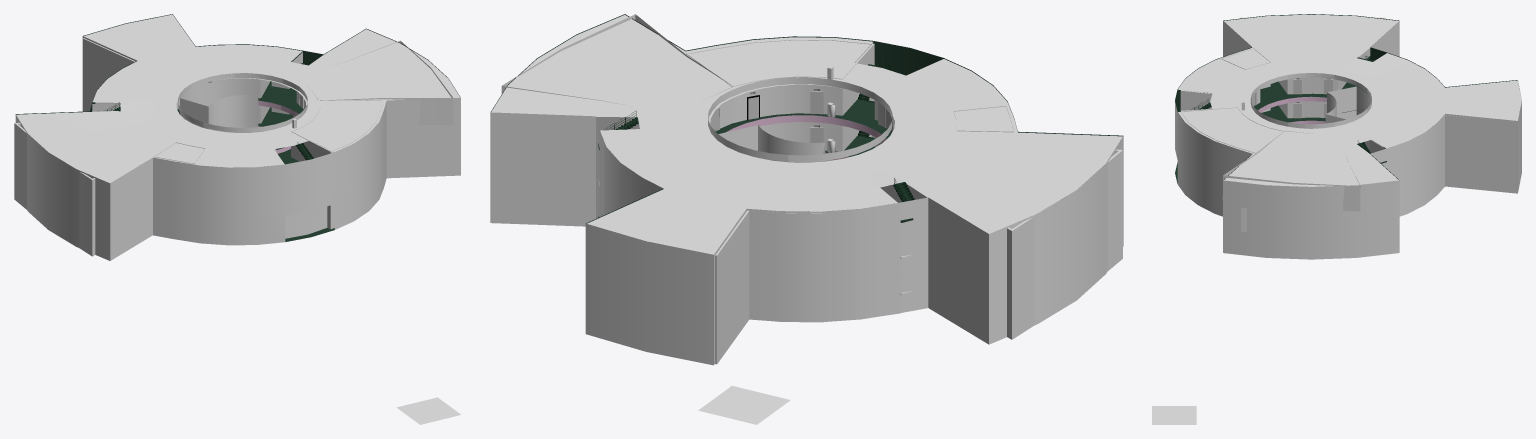
File: main_interior (1).fbx
The picture shows the model from 3 angles, left to right: view 1: azimuth 30°, elevation 25°; view 2: azimuth 150°, elevation 25°; view 3: azimuth 270°, elevation 25°; orthographic projection. The views are drawn at different scales.
Parts seen in each view (by area): view 1: Circle.042, Circle.014, Circle.041, Circle.046, Circle.037, Circle.025, Circle, Plane.005, Circle.013, Circle.027, Circle.036, Circle.034 (+3 smaller); view 2: Circle.042, Circle.014, Circle.034, Circle.037, Circle.020, Circle.002, Circle.046, Circle, Plane.005, Circle.036, Circle.041, Circle.025 (+8 smaller); view 3: Circle.042, Circle.014, Circle.037, Circle.020, Circle.002, Circle.046, Circle.041, Circle.025, Plane.005, Circle, Circle.036, Circle.027 (+6 smaller).
Part boxes in pixels (left/top/right/bottom): Circle.042: left=16, top=14, right=459, bottom=182; Circle.014: left=15, top=36, right=460, bottom=260; Circle.041: left=180, top=79, right=258, bottom=129; Circle.046: left=178, top=73, right=307, bottom=132; Circle.037: left=82, top=38, right=270, bottom=109; Circle.025: left=296, top=40, right=453, bottom=124; Circle: left=15, top=14, right=460, bottom=241; Plane.005: left=396, top=397, right=461, bottom=424; Circle.013: left=285, top=206, right=327, bottom=238; Circle.027: left=177, top=81, right=329, bottom=164; Circle.036: left=14, top=122, right=95, bottom=205; Circle.034: left=291, top=100, right=382, bottom=161; Circle.042: left=491, top=15, right=1122, bottom=254; Circle.014: left=490, top=112, right=1123, bottom=365; Circle.034: left=686, top=38, right=874, bottom=123; Circle.037: left=715, top=210, right=830, bottom=291; Circle.020: left=715, top=247, right=830, bottom=327; Circle.002: left=715, top=284, right=830, bottom=364; Circle.046: left=708, top=77, right=892, bottom=162; Circle: left=491, top=14, right=1122, bottom=223; Plane.005: left=698, top=386, right=790, bottom=424; Circle.036: left=881, top=149, right=1122, bottom=266; Circle.041: left=718, top=125, right=825, bottom=162; Circle.025: left=501, top=14, right=733, bottom=130; Circle.042: left=1178, top=14, right=1521, bottom=186; Circle.014: left=1175, top=21, right=1521, bottom=259; Circle.037: left=1365, top=94, right=1515, bottom=149; Circle.020: left=1445, top=139, right=1515, bottom=169; Circle.002: left=1445, top=162, right=1515, bottom=193; Circle.046: left=1250, top=73, right=1371, bottom=128; Circle.041: left=1325, top=86, right=1371, bottom=123; Circle.025: left=1222, top=130, right=1360, bottom=211; Plane.005: left=1152, top=406, right=1196, bottom=424; Circle: left=1175, top=14, right=1520, bottom=183; Circle.036: left=1240, top=17, right=1385, bottom=94; Circle.027: left=1179, top=56, right=1370, bottom=150.
Size of the model in its own units: 9162 by 6652 by 8280.
